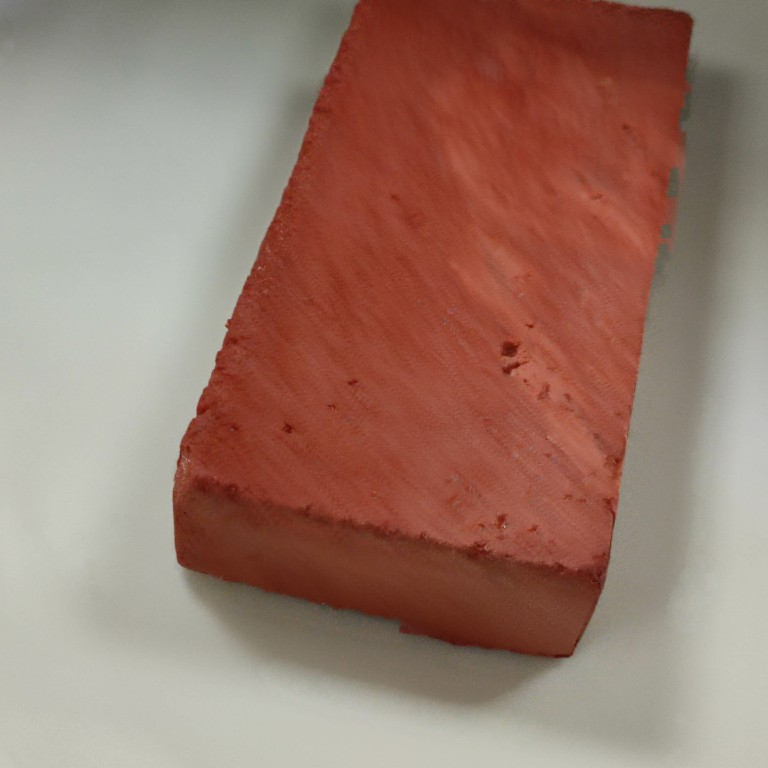brick: (164, 1, 700, 665)
